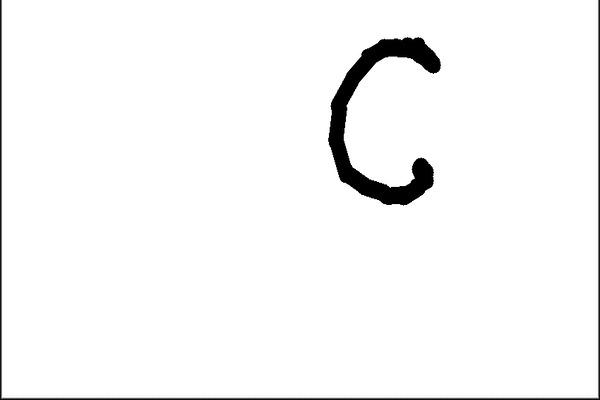C: (322, 31, 445, 211)
